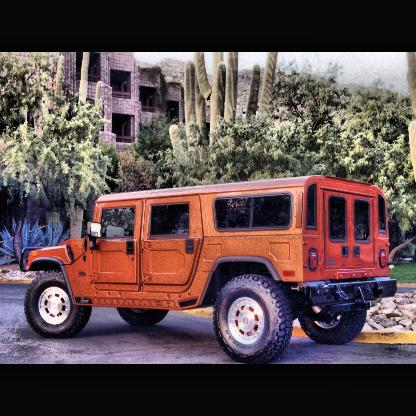AM General Hummer SUV 2000: (22, 175, 401, 364)
